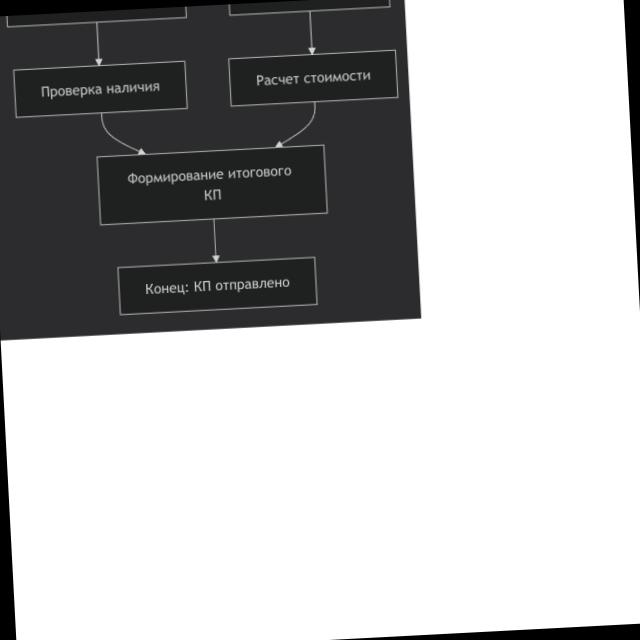arrow: (274, 103, 324, 153), (94, 114, 146, 161), (209, 220, 221, 261), (307, 12, 315, 54), (96, 23, 102, 65)
rectangle: (97, 144, 328, 225), (117, 257, 318, 315), (13, 60, 187, 118), (229, 49, 399, 107)
